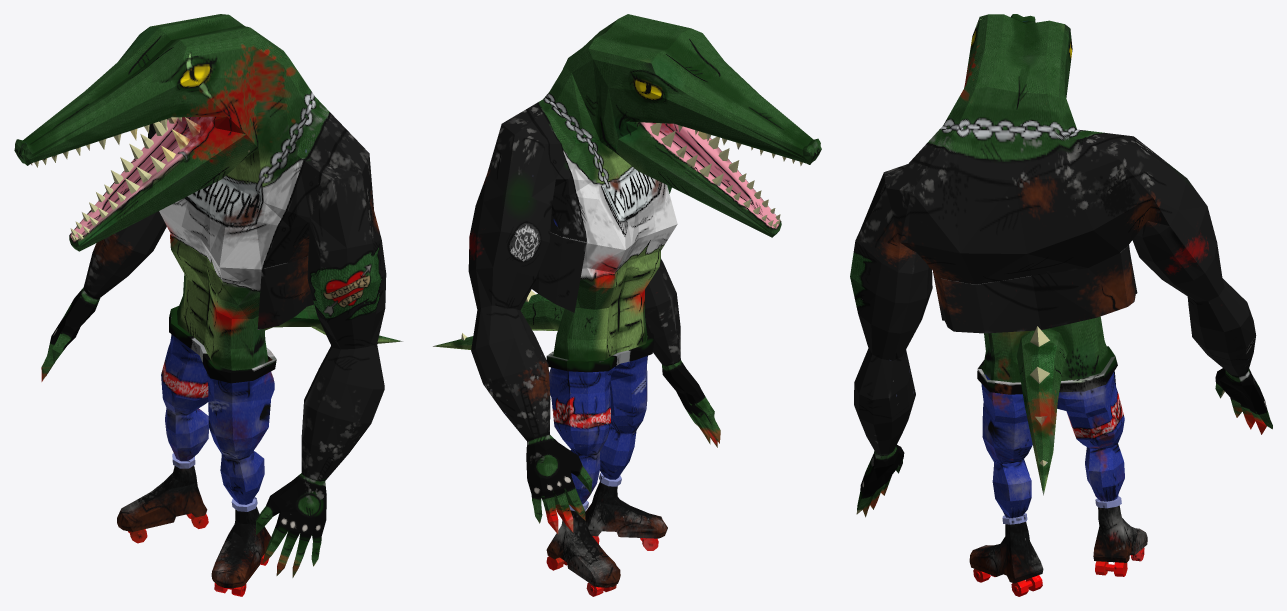
File: cocodrilaBonesSelect_000018.obj
3 views of the same model, side by side, from view 1: azimuth 30°, elevation 25°; view 2: azimuth 150°, elevation 25°; view 3: azimuth 270°, elevation 25° (orthographic). The views are drawn at different scales.
Visible parts, largest first — view 1: Crocodile.002_Cylinder.002; view 2: Crocodile.002_Cylinder.002; view 3: Crocodile.002_Cylinder.002.
Boxes of the visible parts, left/top/right/bottom form: Crocodile.002_Cylinder.002: left=14, top=14, right=403, bottom=596; Crocodile.002_Cylinder.002: left=433, top=14, right=821, bottom=596; Crocodile.002_Cylinder.002: left=850, top=14, right=1272, bottom=596.
Bounding box in the file's own units: 5.04 × 6.78 × 4.78.
